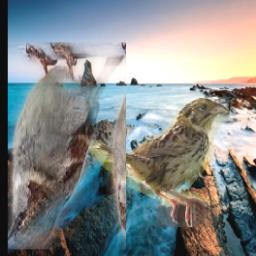Sparrow: (8, 42, 126, 249), (85, 96, 230, 227)
